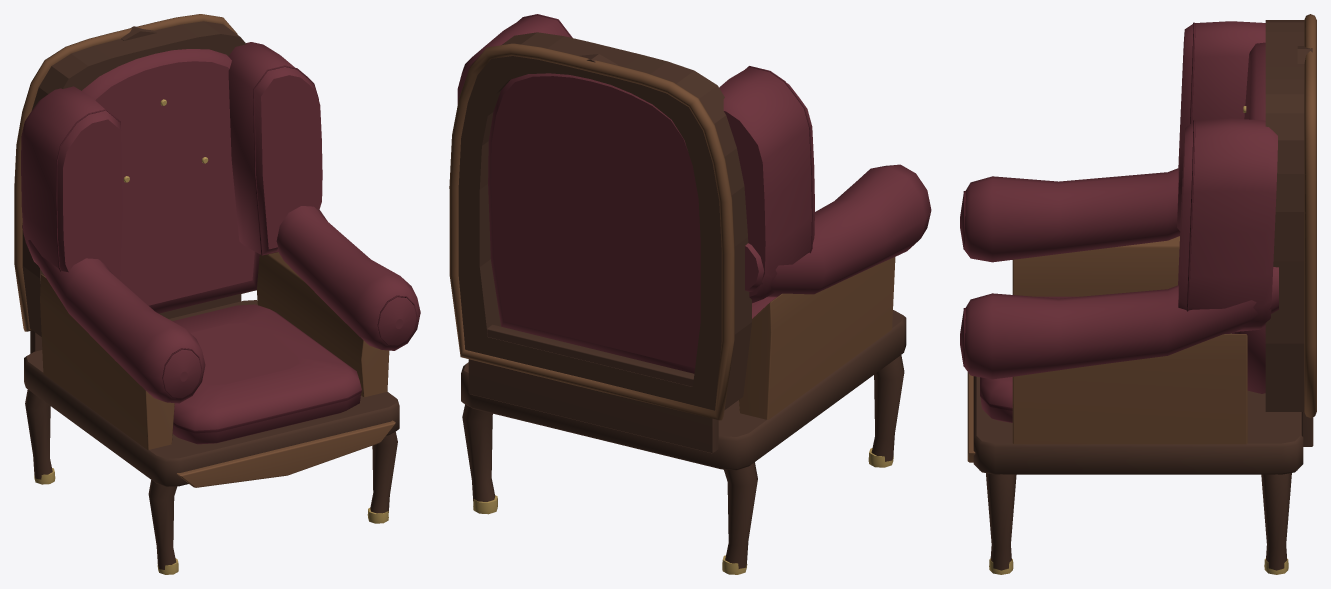
File: rpg-mansion-wing-chair-02.glb
3 renders of one model, left to right at view 1: azimuth 30°, elevation 25°; view 2: azimuth 150°, elevation 25°; view 3: azimuth 270°, elevation 25°, orthographic. The views are drawn at different scales.
Visible parts, largest first — view 1: rpg-mansion-wing-chair-01; view 2: rpg-mansion-wing-chair-01; view 3: rpg-mansion-wing-chair-01.
Boxes of the visible parts, x1,y1,x2,y2 form: rpg-mansion-wing-chair-01: (14, 14, 420, 574); rpg-mansion-wing-chair-01: (449, 14, 931, 574); rpg-mansion-wing-chair-01: (960, 14, 1316, 574).
Bounding box in the file's own units: 0.85 × 1.22 × 0.85.
